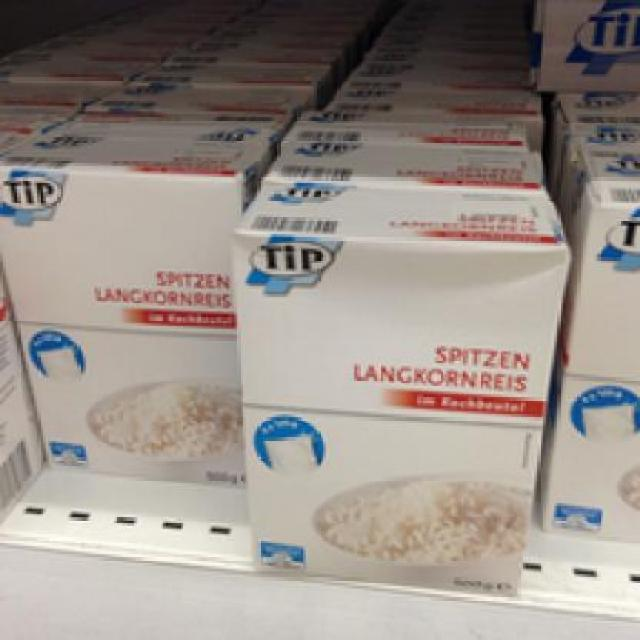Rice: (222, 180, 568, 594), (0, 129, 266, 480)
